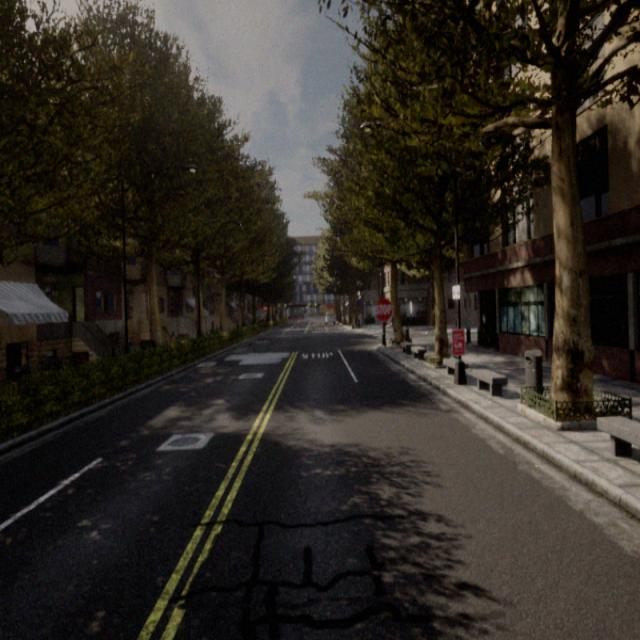stop sign: (372, 292, 395, 347), (373, 296, 394, 323)
